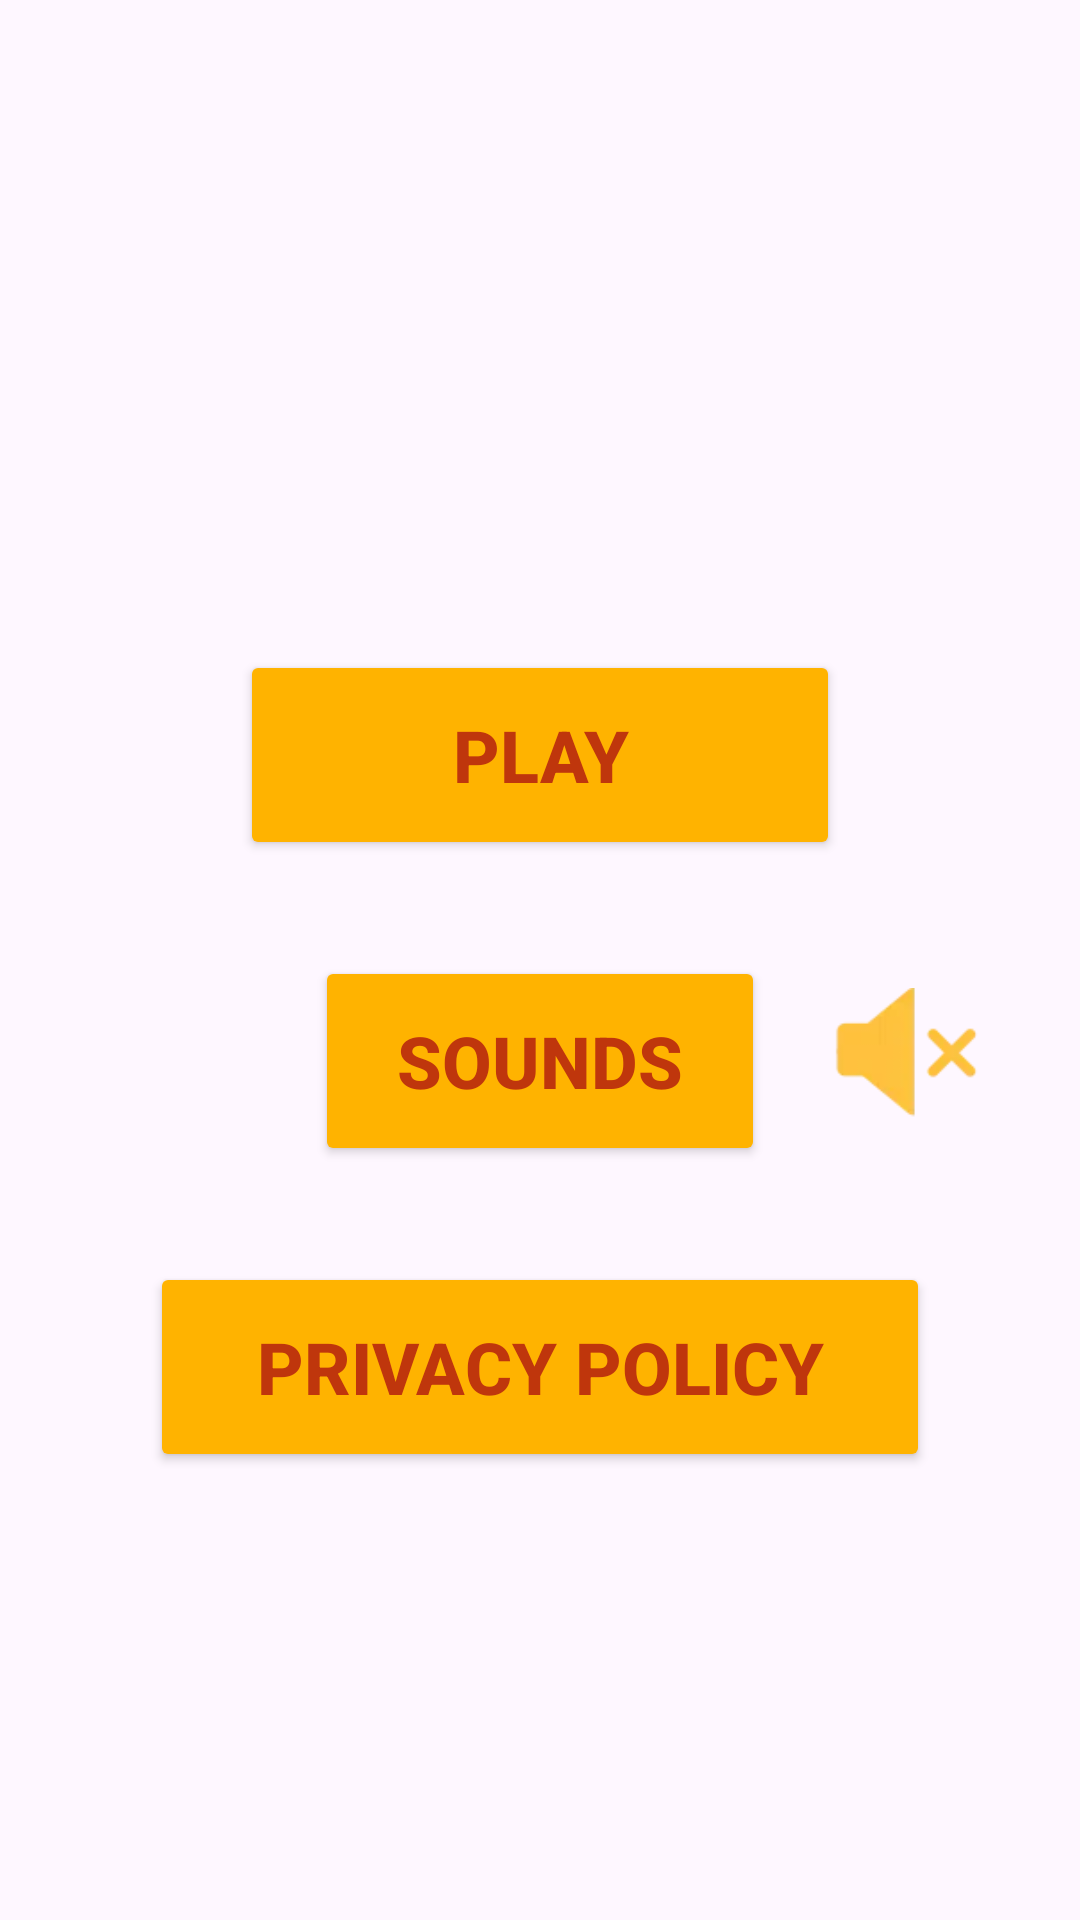

Named icons in this screenshot (1080px×1920px) and their bounding boxes, {"x1": x1, "y1": y1, "x2": x2, "y2": y2}:
sound off: {"x1": 836, "y1": 988, "x2": 976, "y2": 1116}
